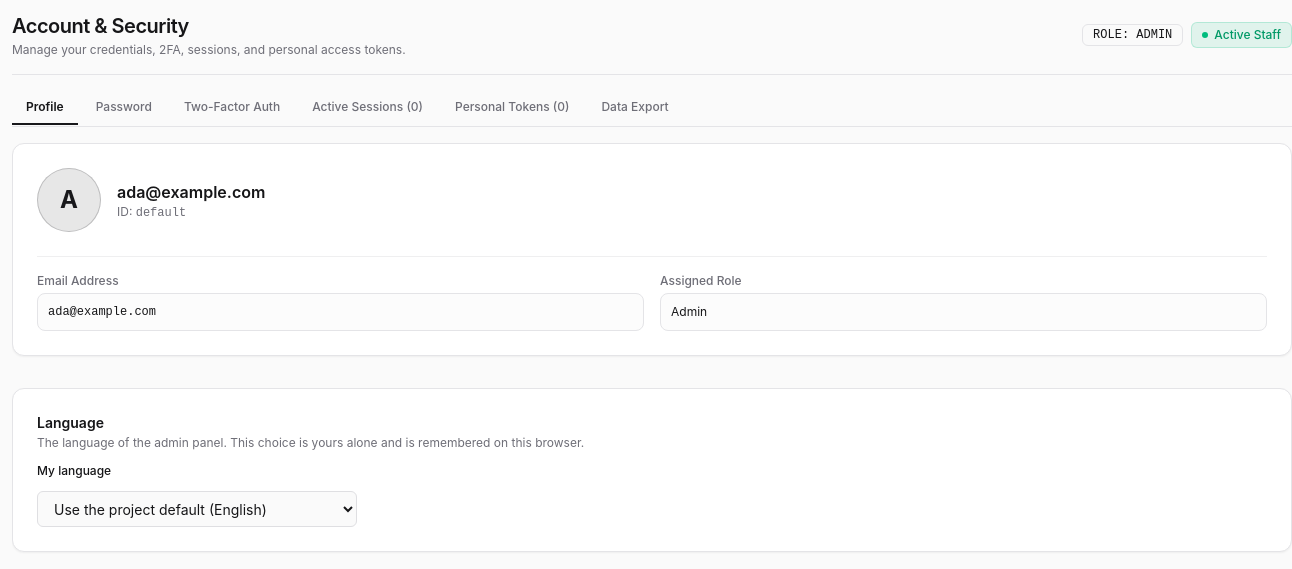
Test: AccountView › loads and lists active sessions from both data and sessions shapes
Click the button "Active Sessions (0)": (368, 108) [298,91,437,125]
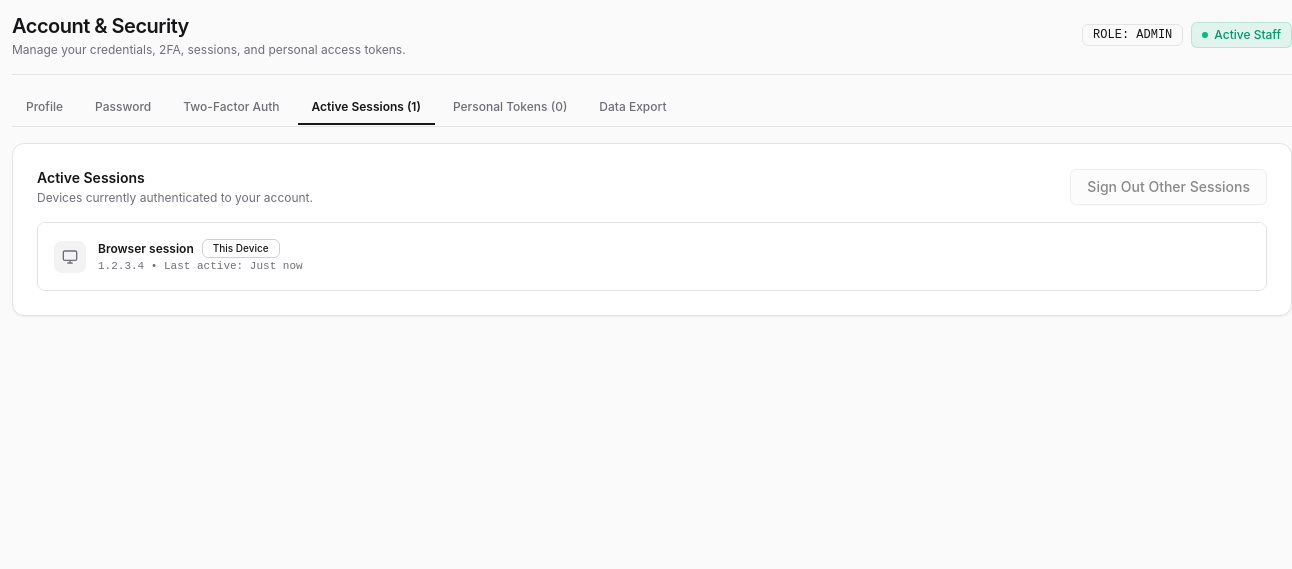
expect the text "1.2.3.4" is shown: met, box [98,260,303,272]
